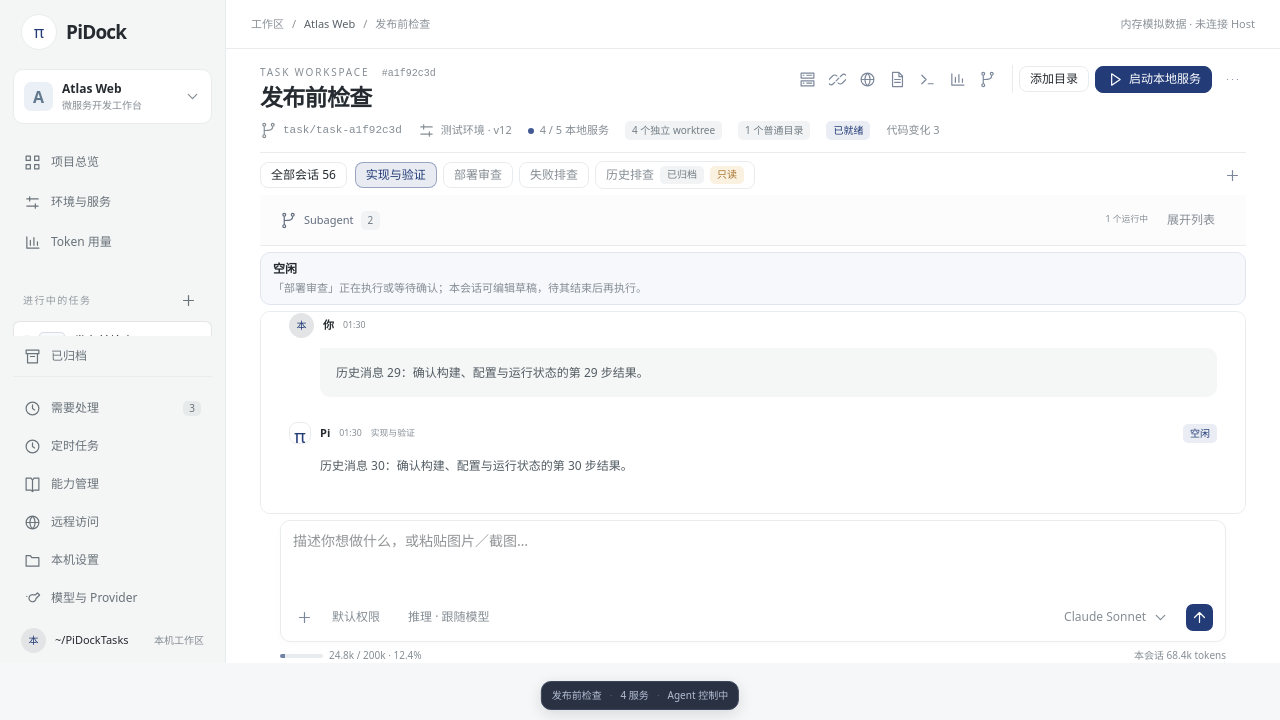
Test: task 任务操作 menu › holds the mapped secondary actions and opens the delivery review from the menu
(page scrolled)
Expected: the heading "发布前检查" is shown, left=260, top=81, right=372, bottom=113
Click the button named "任务操作": (1232,79) left=1218, top=65, right=1246, bottom=93
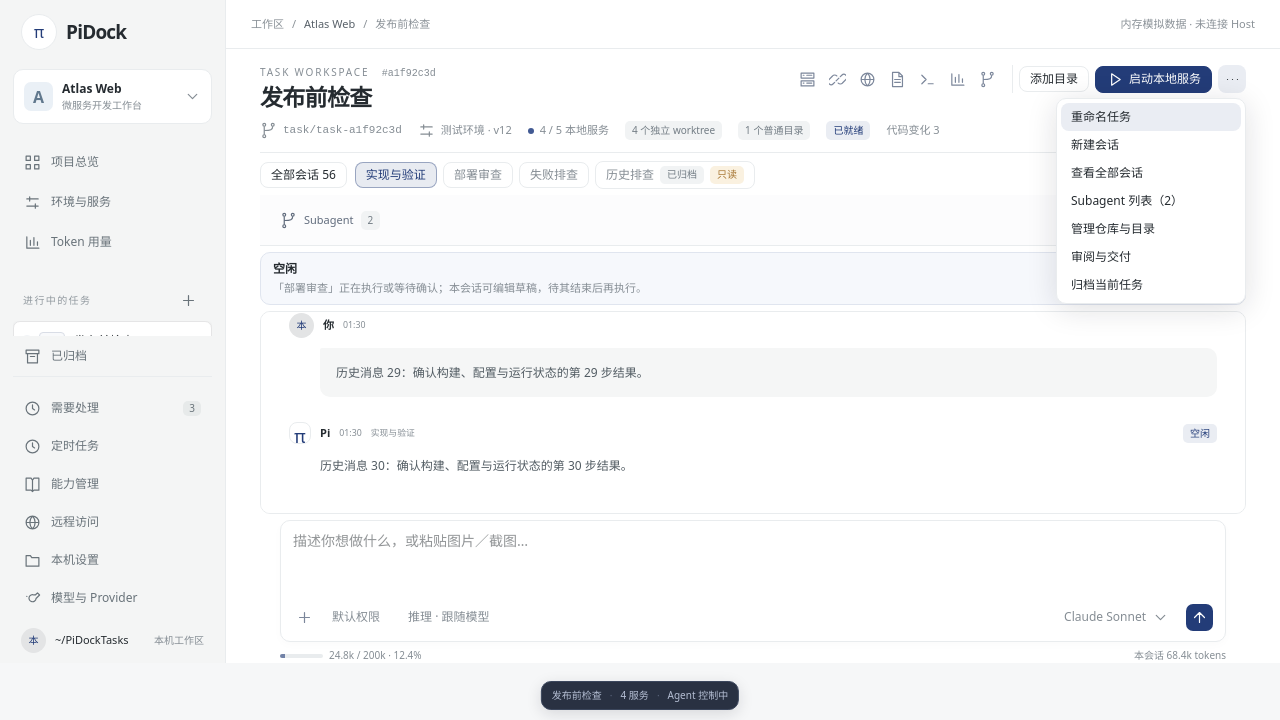
Now the menu item "重命名任务" is shown, box left=1061, top=102, right=1241, bottom=130
Now the menu item "新建会话" is shown, box left=1061, top=130, right=1241, bottom=158
Now the menu item "查看全部会话" is shown, box left=1061, top=158, right=1241, bottom=186
Click the menu item "审阅与交付": (1151,256) left=1061, top=242, right=1241, bottom=270
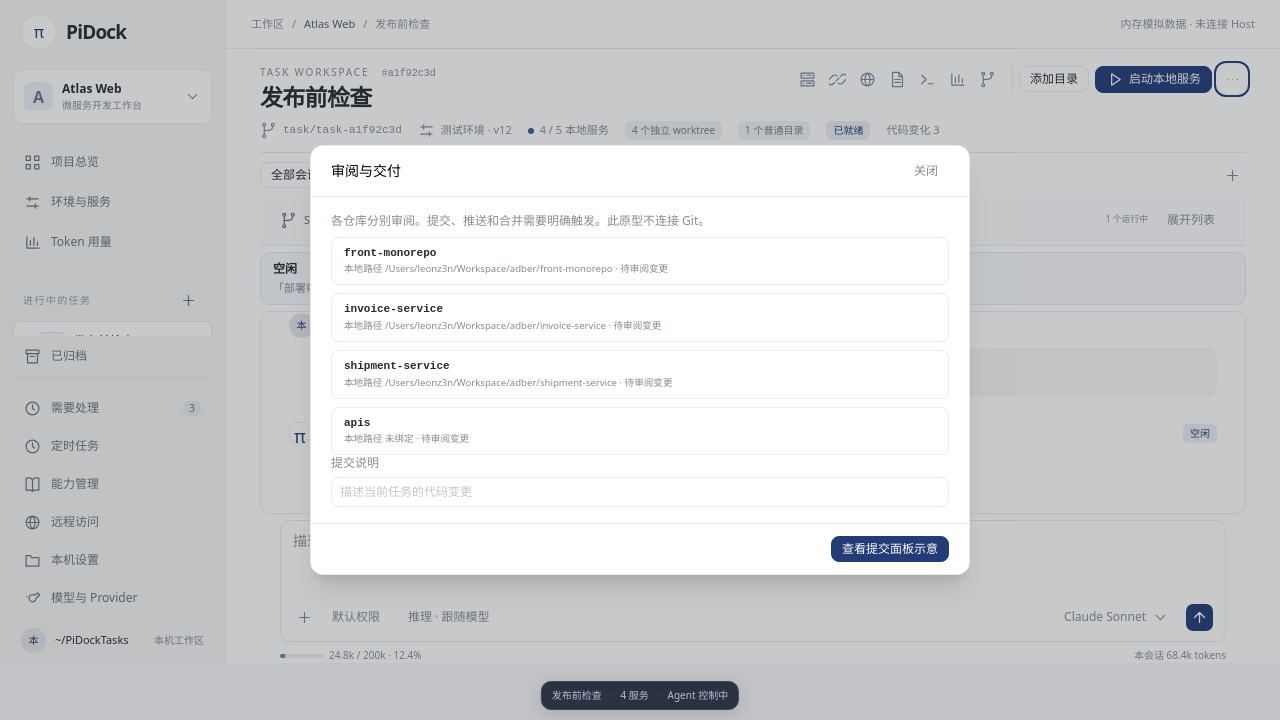
Now the dialog "审阅与交付" is shown, box left=310, top=145, right=970, bottom=575
Now the menu "重命名任务 新建会话 查看全部会话 Subagent 列表（2） 管理仓库与目录 审阅与交付 归档当前任务" is gone
